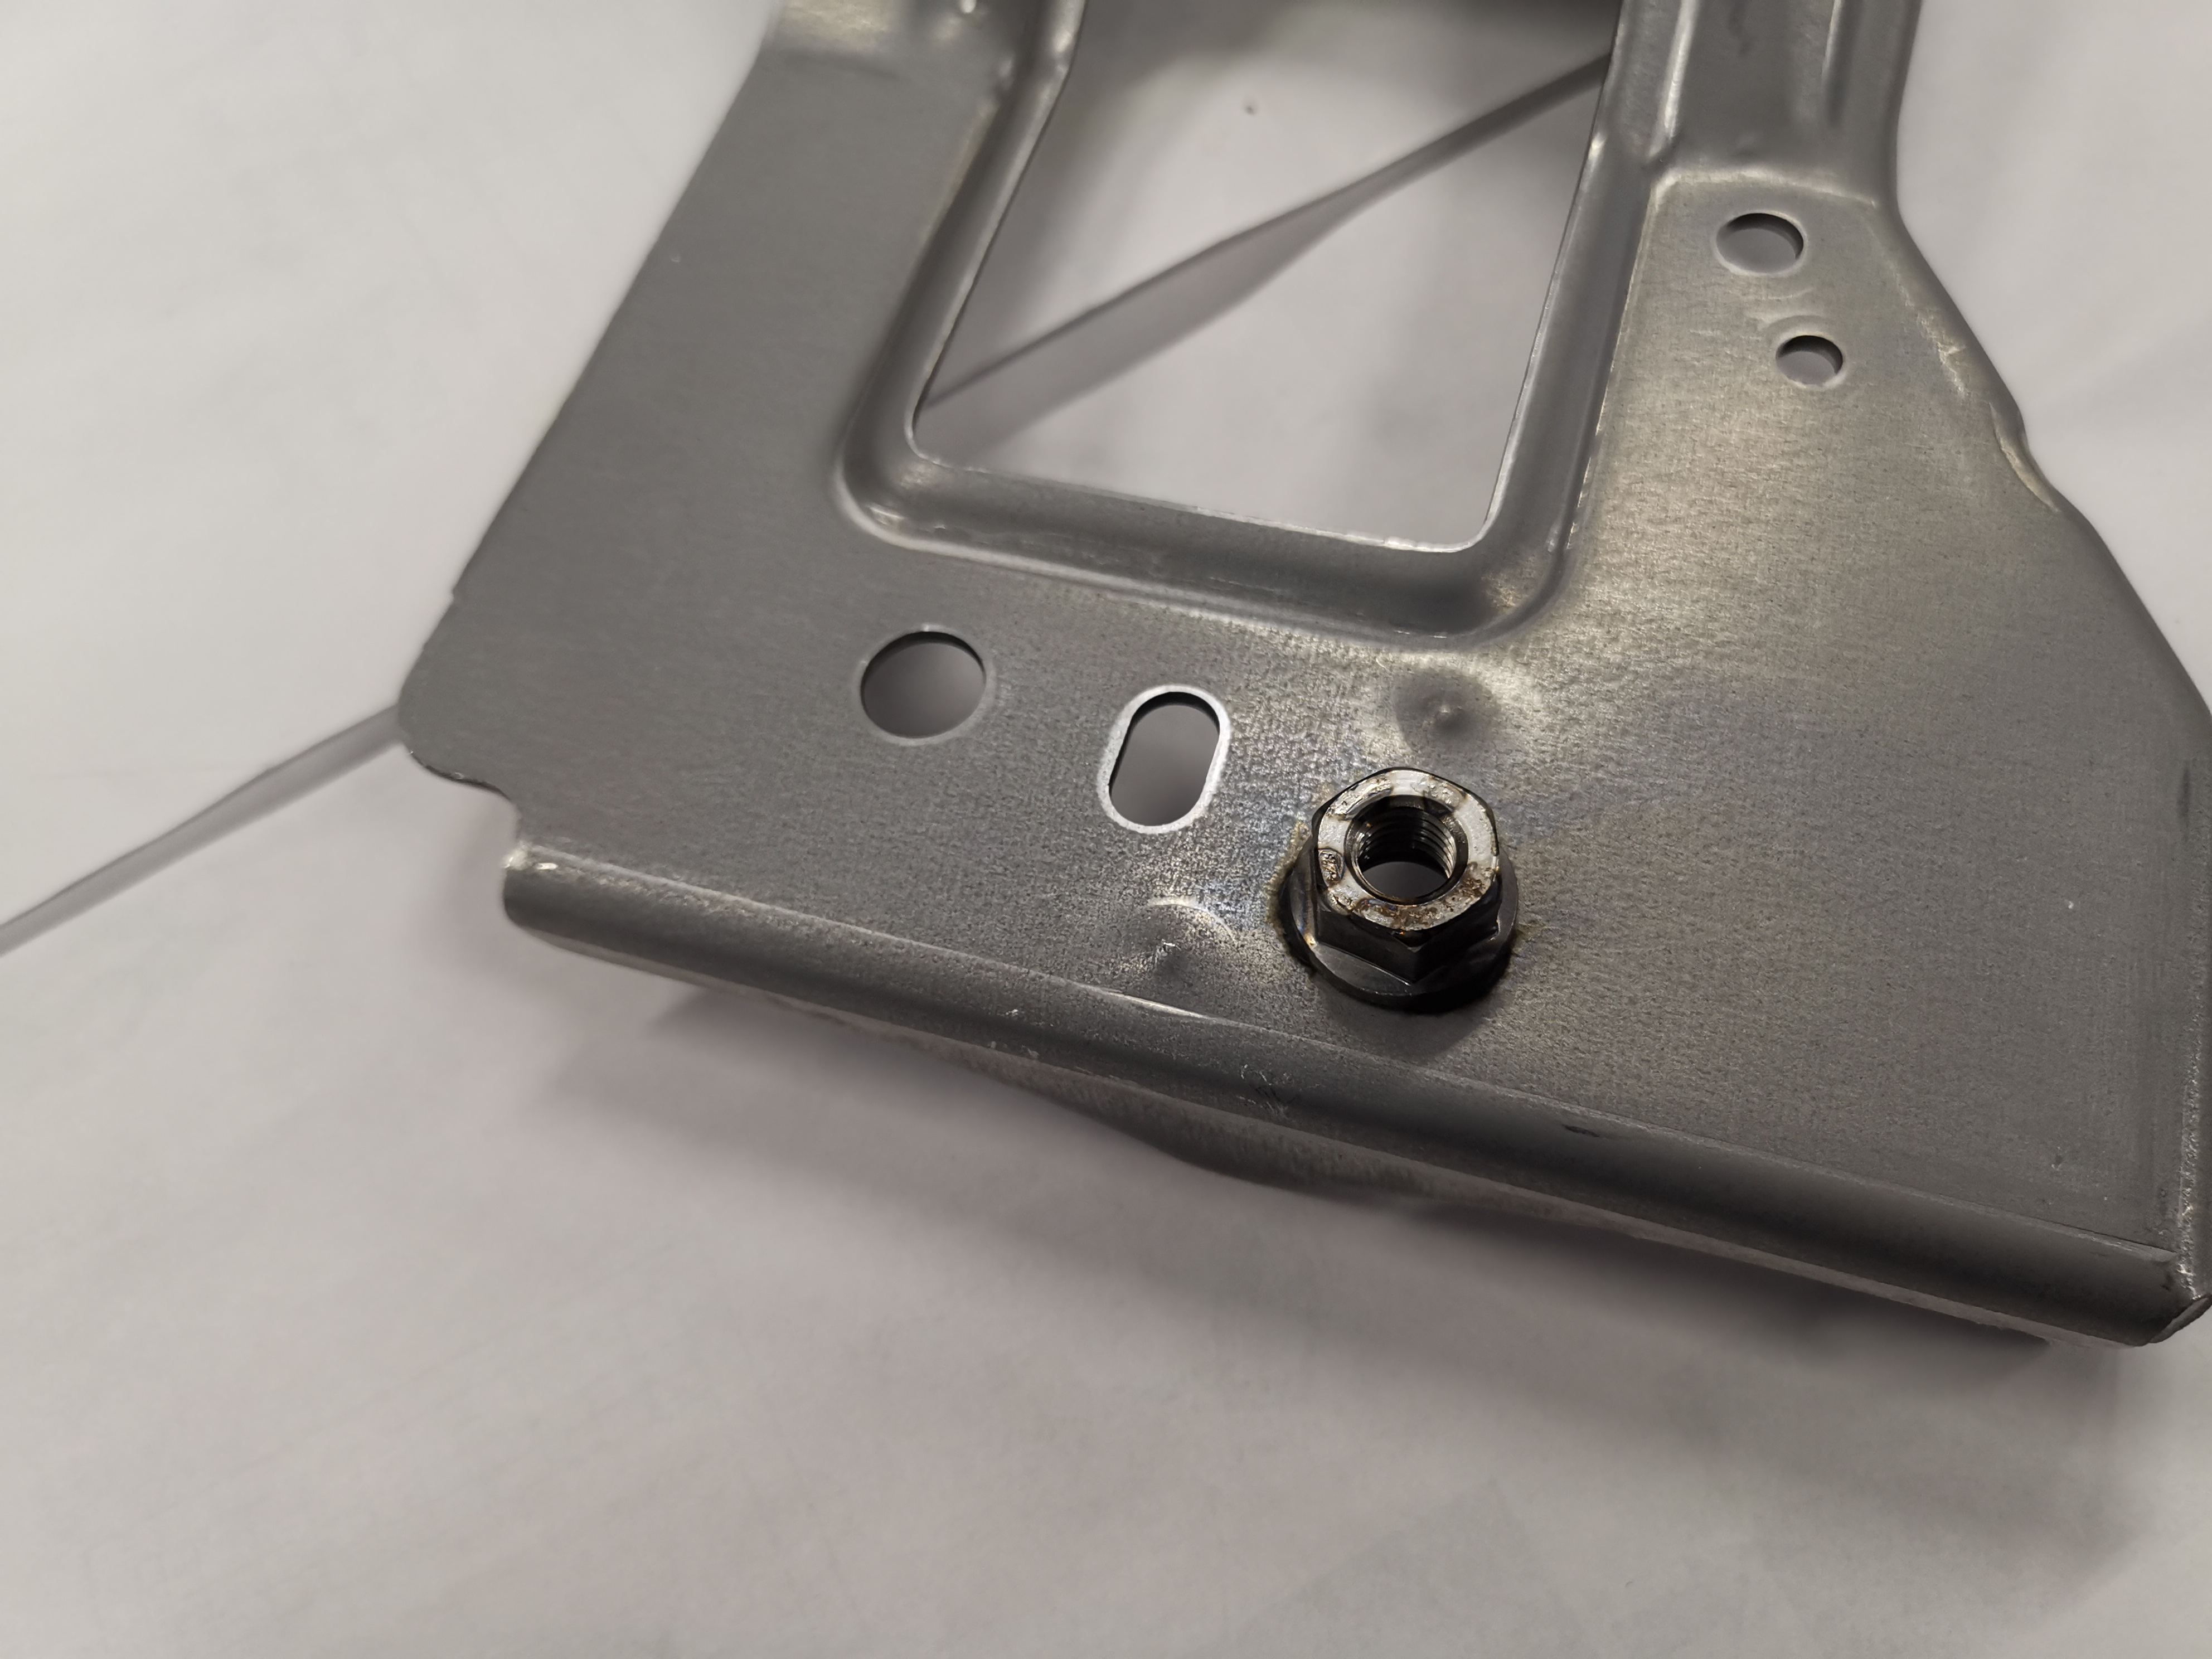dog: (1273, 756, 1527, 1016)
